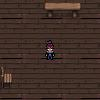Obstacle: (44, 2, 81, 19), (0, 65, 14, 89)
Victim: (44, 39, 56, 60)
